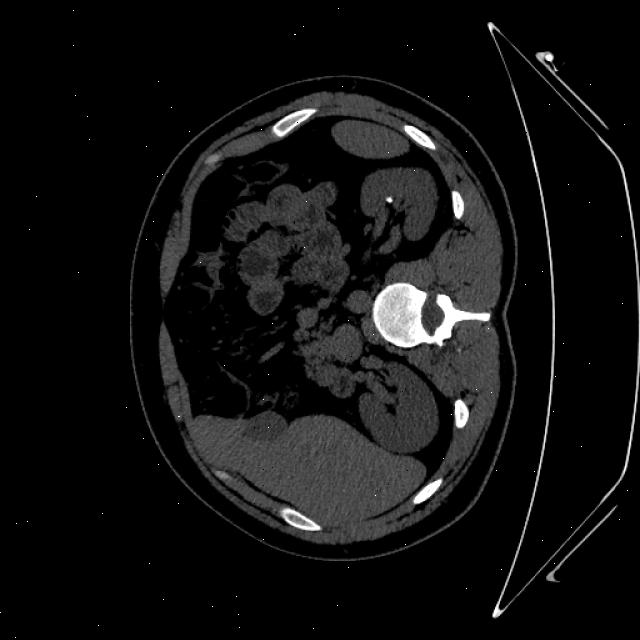kidneystone: (385, 196, 393, 202)
